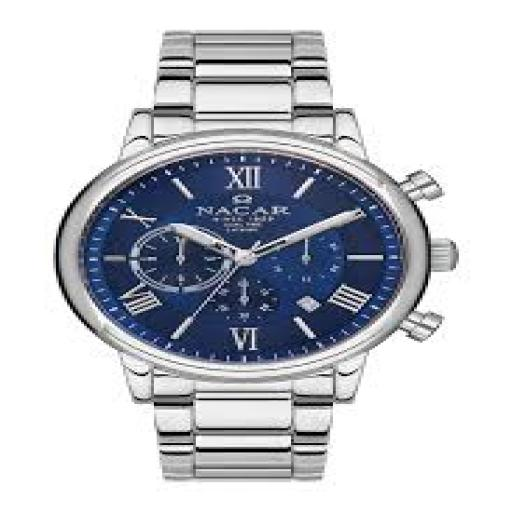KolSaati: (24, 16, 448, 480)
